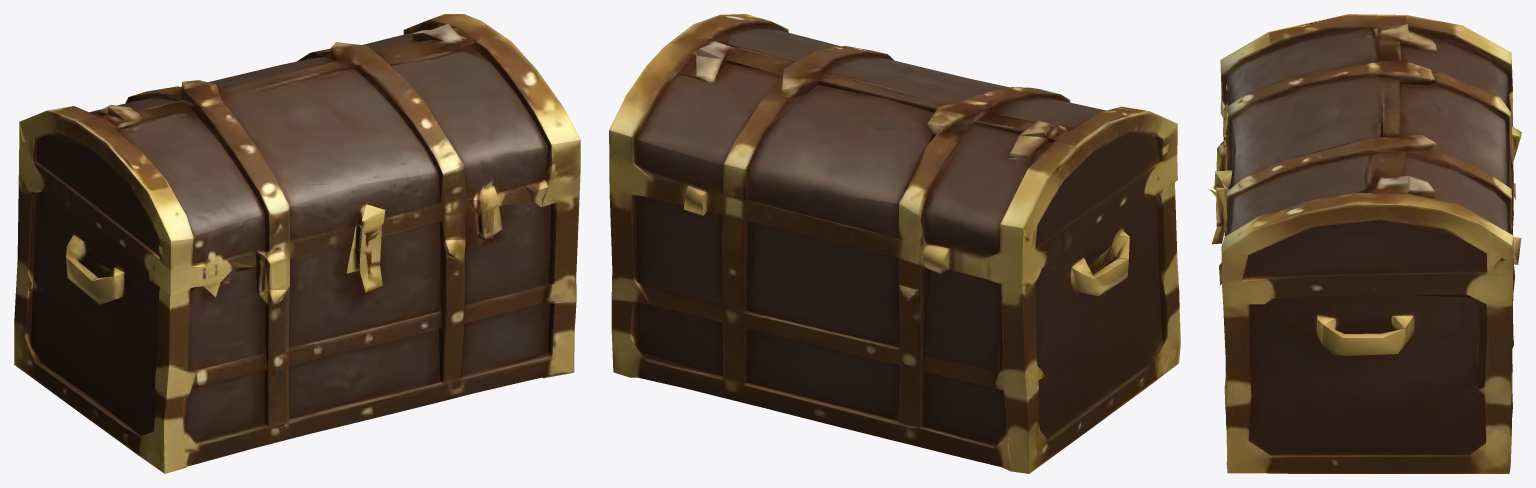
File: atticTrunk.glb
The picture shows the model from 3 angles, left to right: view 1: azimuth 30°, elevation 25°; view 2: azimuth 150°, elevation 25°; view 3: azimuth 270°, elevation 25°; orthographic projection. The views are drawn at different scales.
Visible parts, largest first — view 1: model; view 2: model; view 3: model.
Part boxes in pixels (box(x1,y1,x2,y2)): model: box(14, 14, 580, 473); model: box(609, 14, 1180, 473); model: box(1209, 14, 1521, 473).
Size of the model in its own units: 1.9 by 1.2 by 1.22.
Materials: 1 (1 with a texture image).
